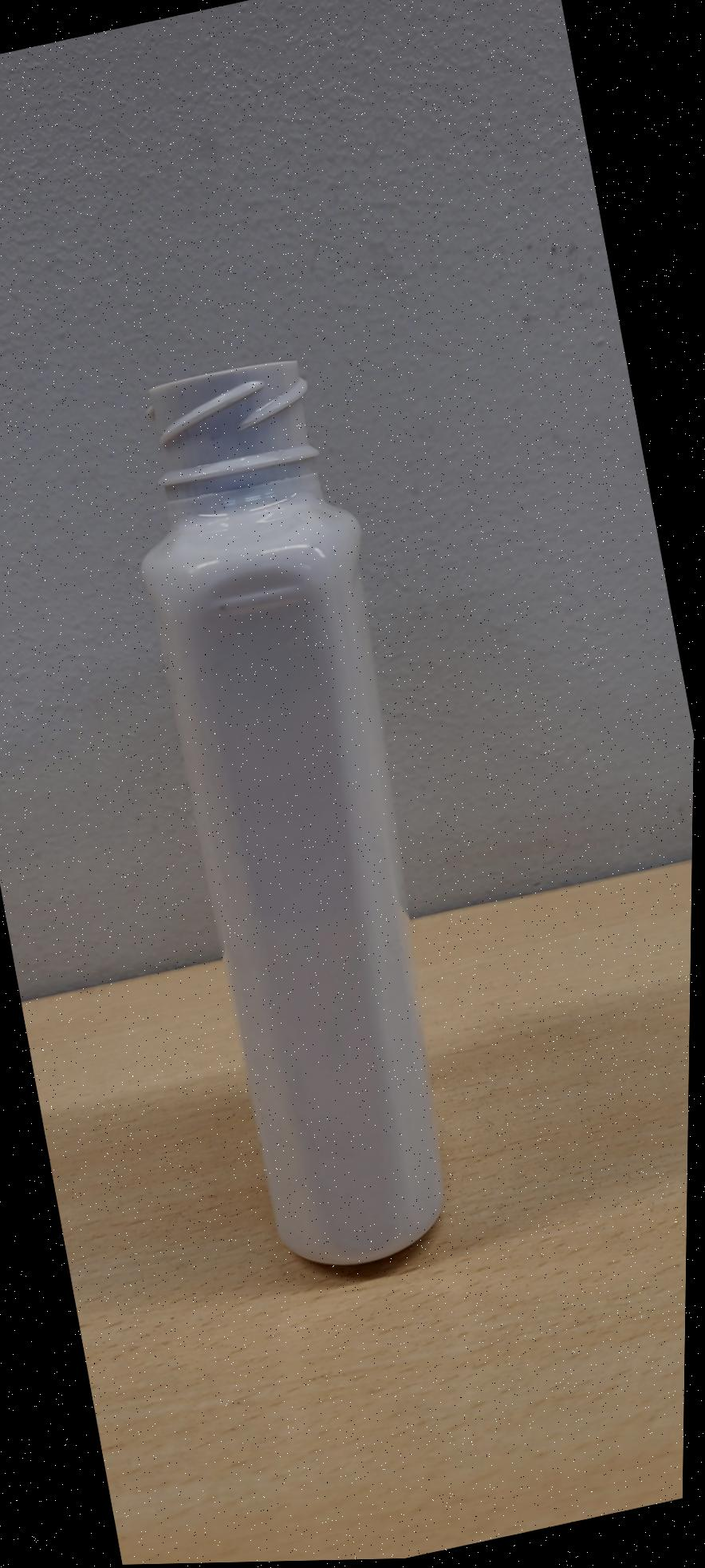bottle: (143, 361, 443, 1266)
